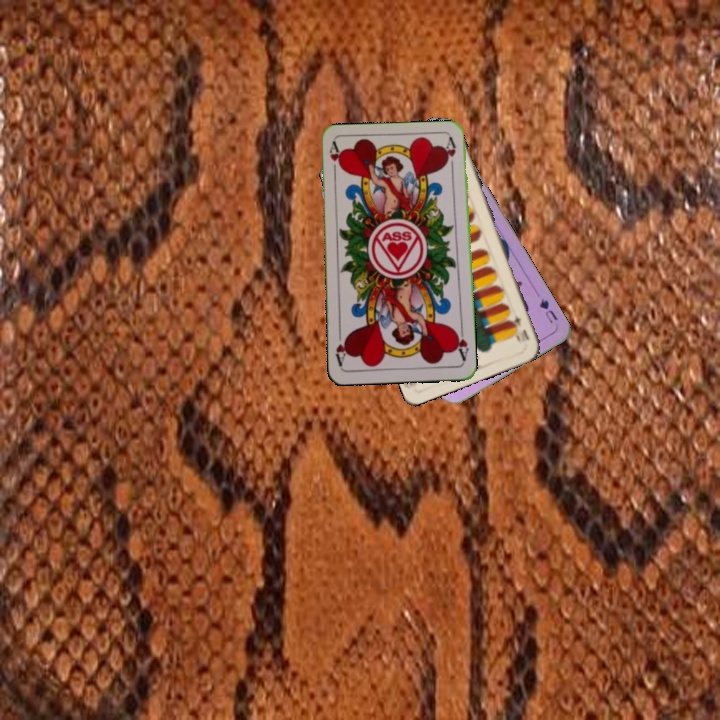E10: (508, 312, 532, 343)
GU: (535, 294, 560, 326)
HA: (451, 324, 471, 364), (325, 139, 344, 180)
